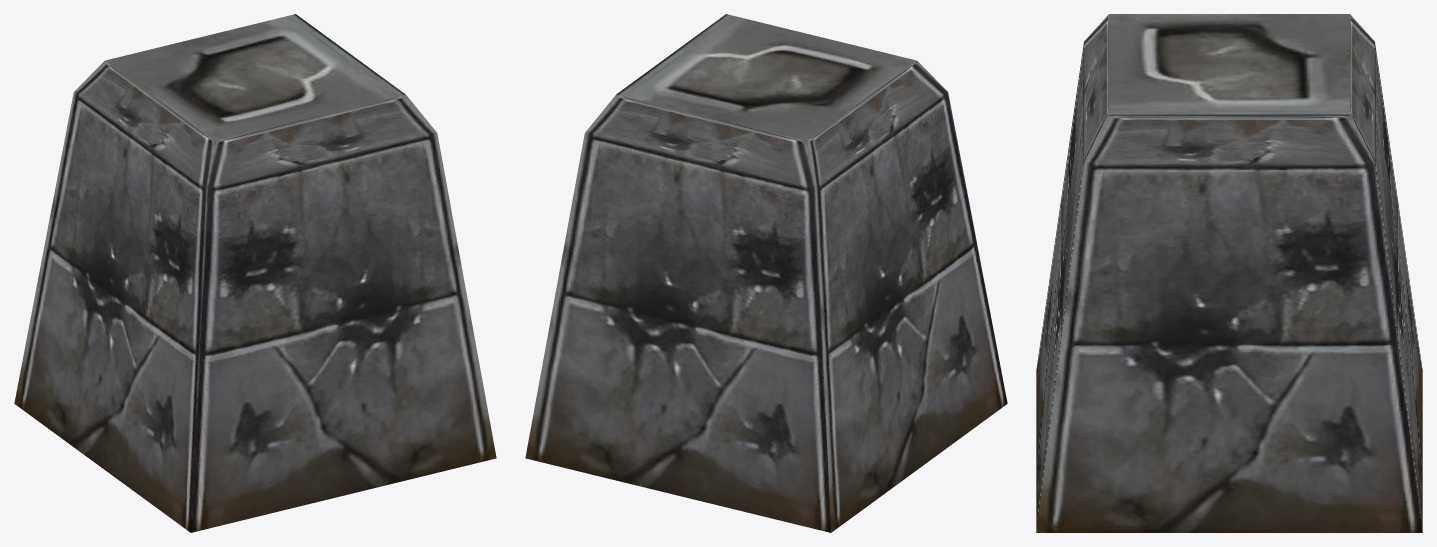
The model's file is s_lightpost_dam_hdtex.glb.
3 renders of one model, left to right at view 1: azimuth 30°, elevation 25°; view 2: azimuth 150°, elevation 25°; view 3: azimuth 270°, elevation 25°, orthographic. The views are drawn at different scales.
Parts seen in each view (by area): view 1: S_LightWallDAM; view 2: S_LightWallDAM; view 3: S_LightWallDAM.
Part boxes in pixels (bbox=[...]): S_LightWallDAM: bbox=[14, 14, 496, 532]; S_LightWallDAM: bbox=[525, 14, 1007, 532]; S_LightWallDAM: bbox=[1036, 14, 1422, 532].
Bounding box in the file's own units: 4.03 × 4.46 × 4.03.
Materials: 1 (1 with a texture image).
